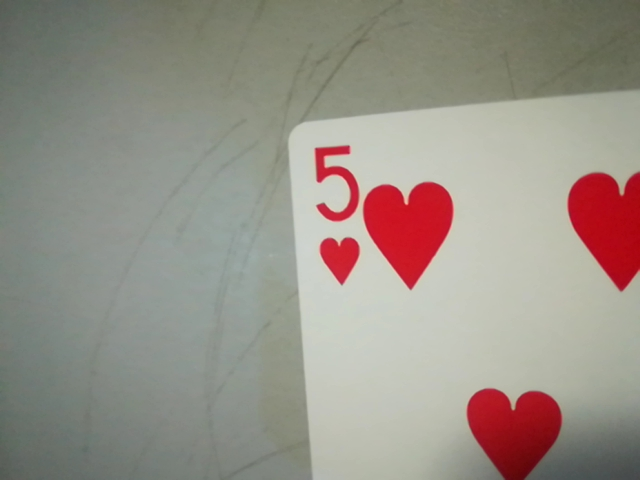hx 5: (300, 131, 365, 294)
